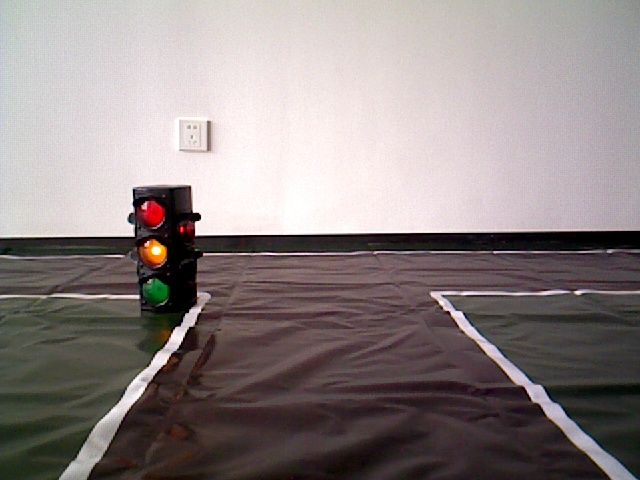yellow: (132, 181, 198, 309)
